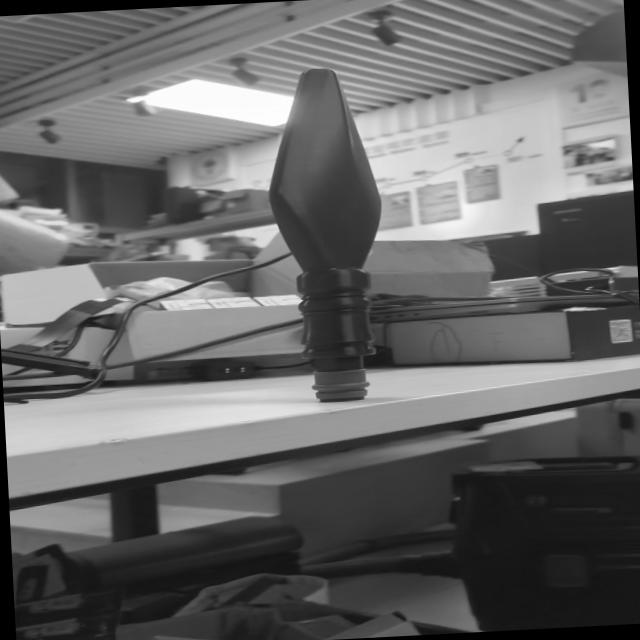base: (308, 365, 376, 409)
